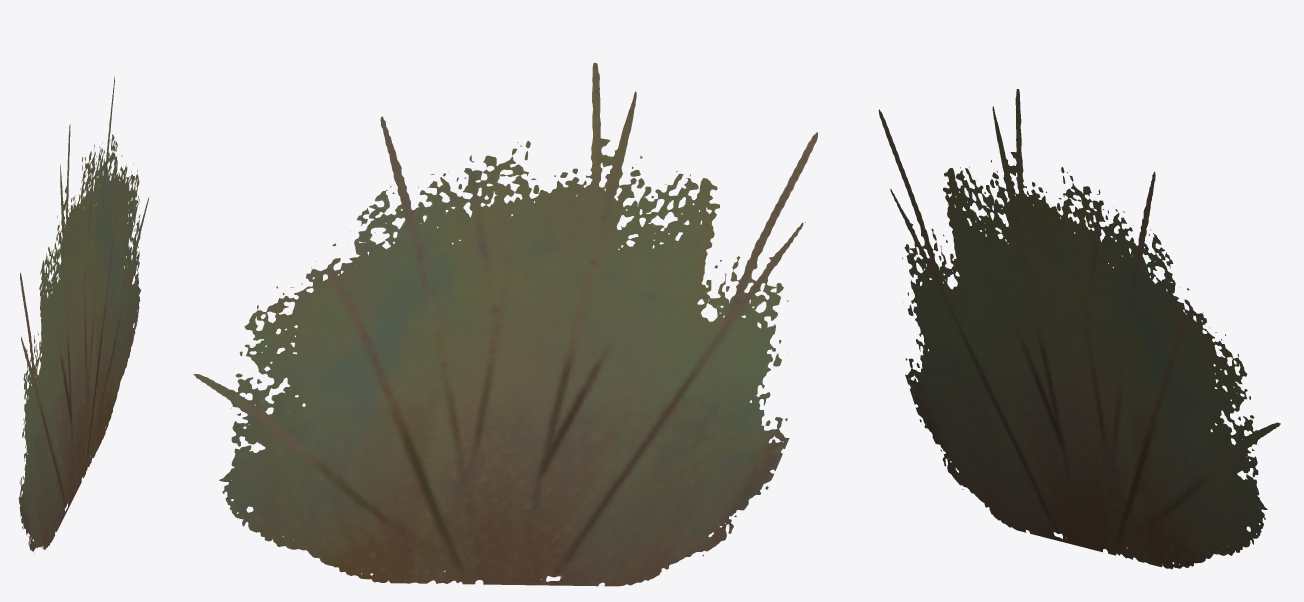
File: bush1.fbx
3 views of the same model, side by side, from view 1: azimuth 30°, elevation 25°; view 2: azimuth 150°, elevation 25°; view 3: azimuth 270°, elevation 25° (orthographic). The views are drawn at different scales.
Visible parts, largest first — view 1: bush1; view 2: bush1; view 3: bush1.
Part boxes in pixels (x1,y1,x2,y2): bush1: [18, 76, 149, 553]; bush1: [193, 62, 817, 586]; bush1: [878, 89, 1280, 569].
Bounding box in the file's own units: 151 × 208 × 153.
